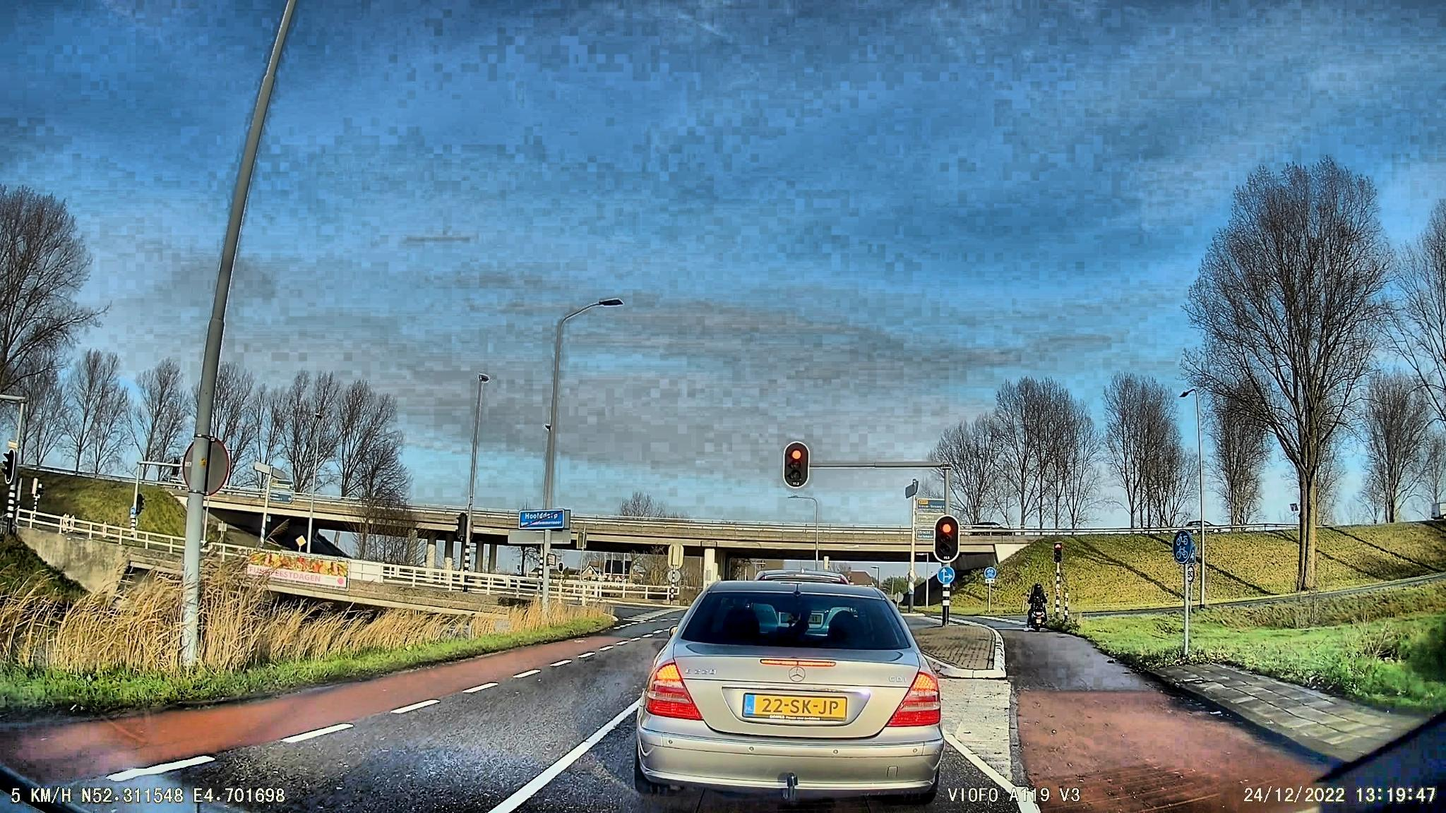Roads: (0, 636, 687, 813), (1005, 631, 1327, 813)
